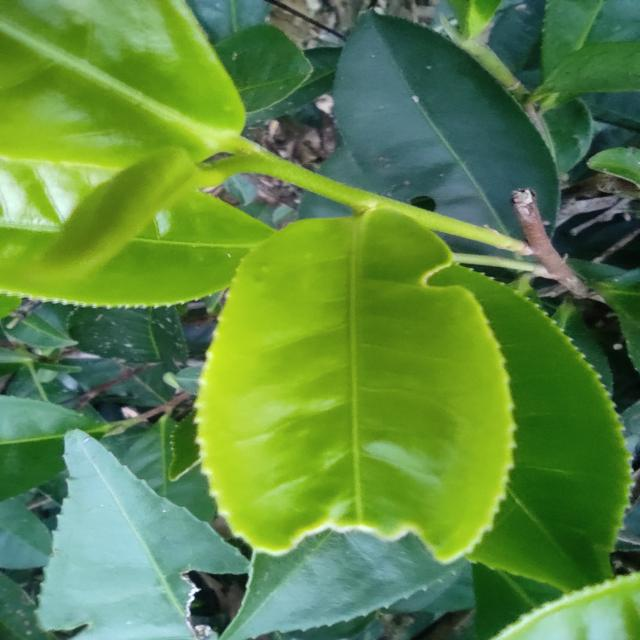Category C(4-7 days): (185, 181, 524, 597)
